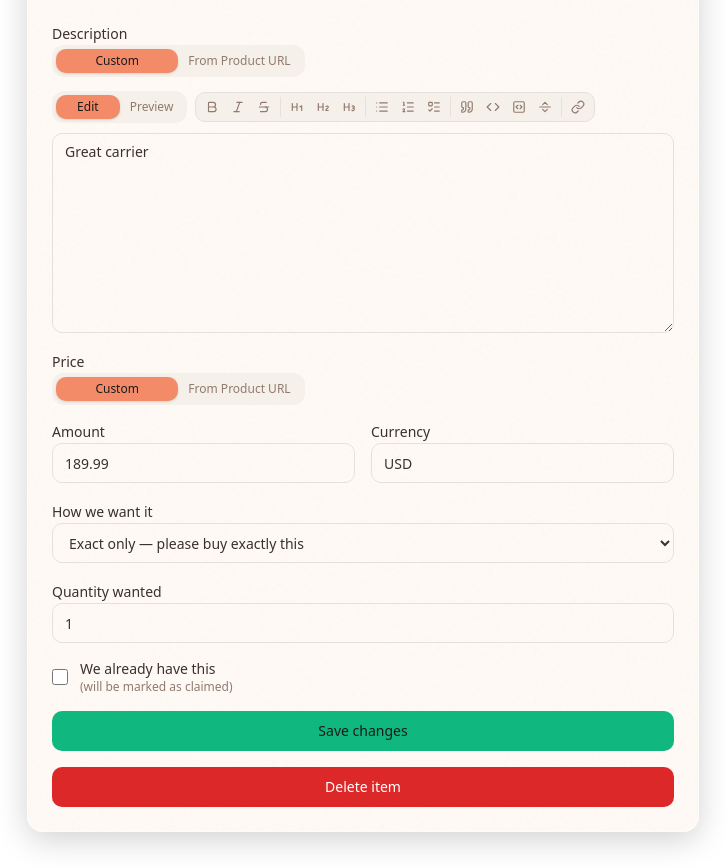
EditItemPage › shows delete/discard buttons when quantity is set to 0
(page scrolled)
Replace the text in the number field labelled "Quantity wanted" with "0" at (363, 623), box [52, 603, 674, 643]
(page scrolled)
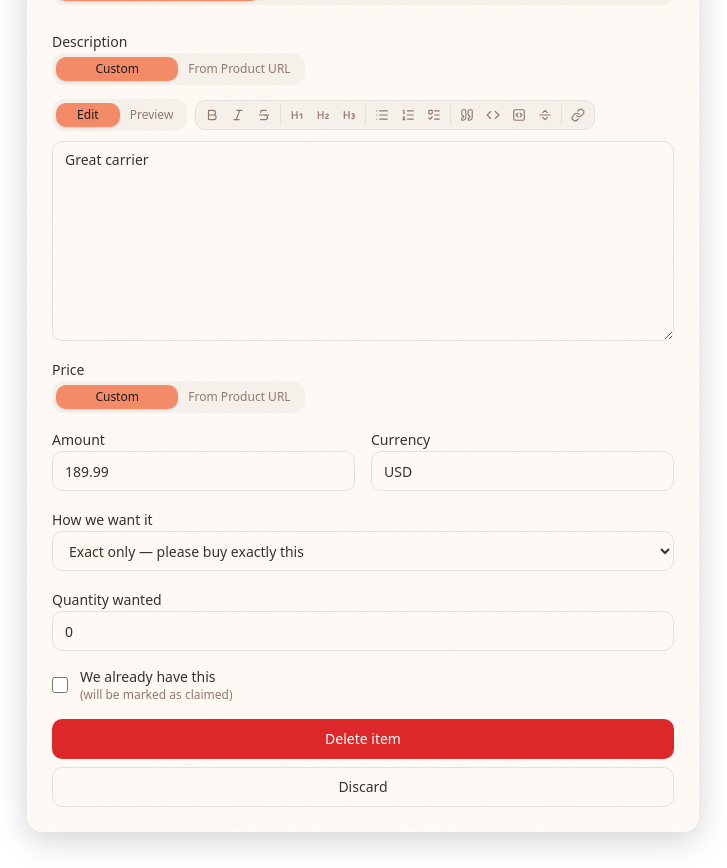
expect the button "Delete item" is shown: met, box [52, 719, 674, 759]
expect the button "Discard" is shown: met, box [52, 767, 674, 807]
expect the button "Save changes" is gone: met
